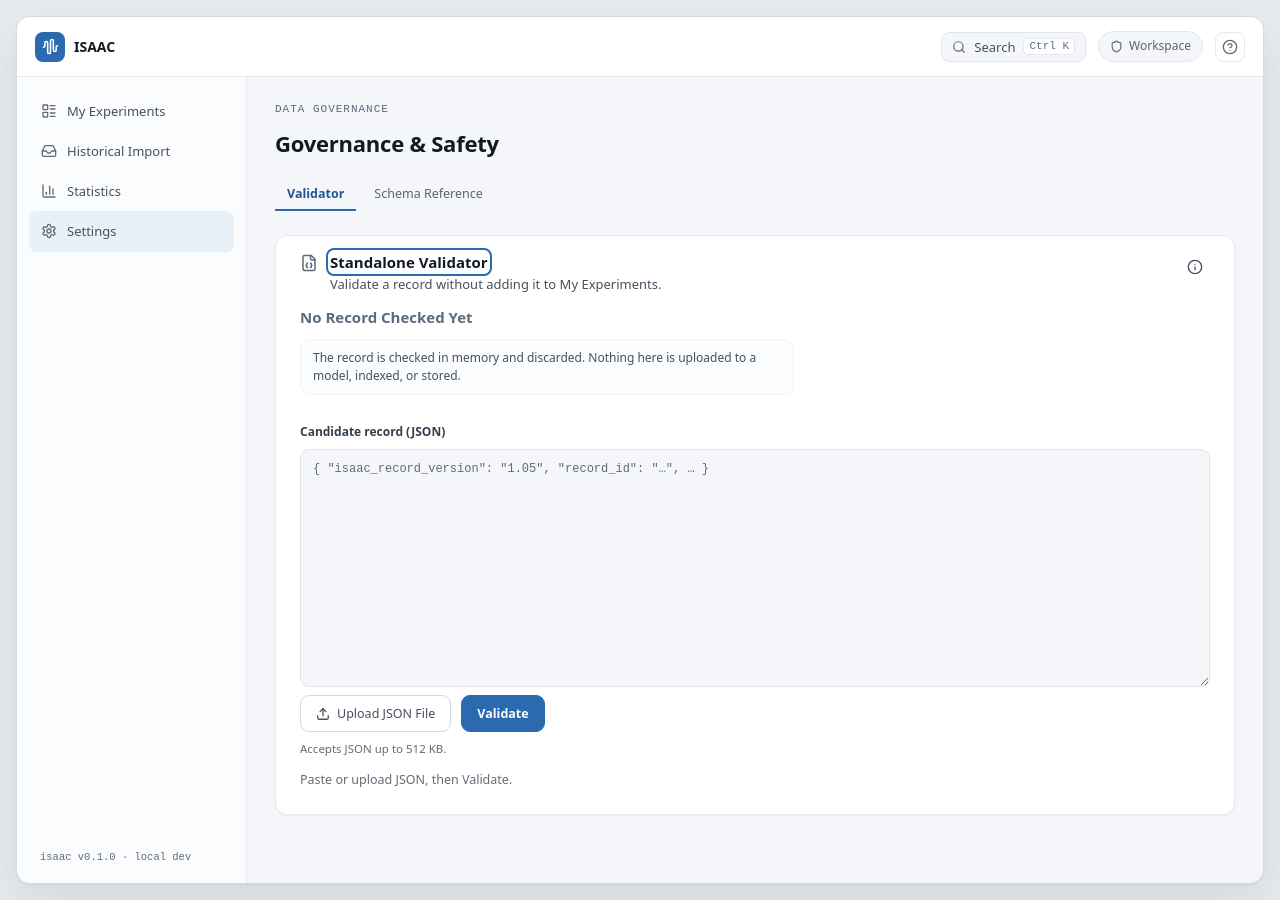
Test: every Governance region shares one measure › the Schema Reference tab panel uses .governance-panel
Click the tab "Schema Reference" at (429, 195), box [362,178,495,211]
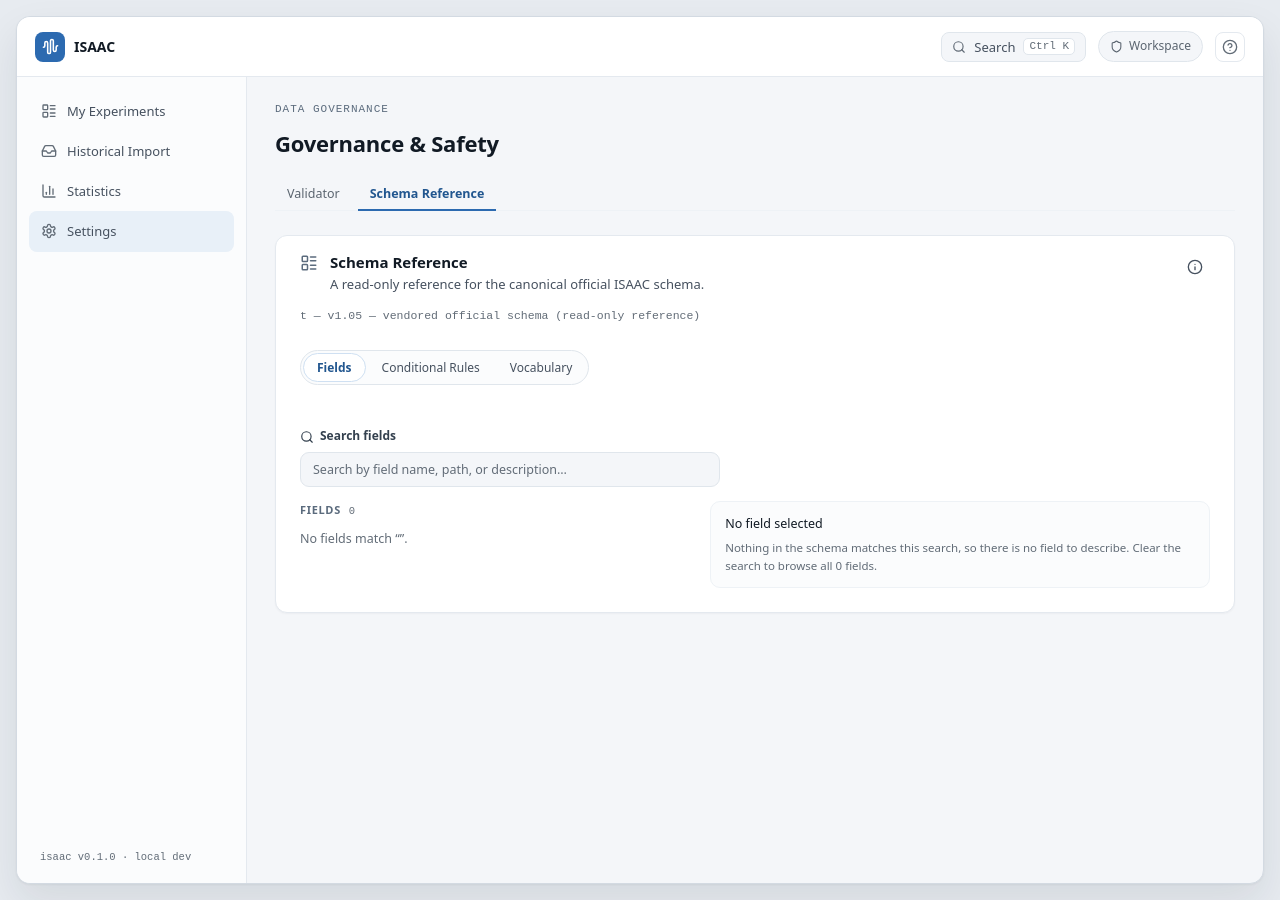
Check: the heading "Schema Reference" is shown, box [330,252,468,272]
